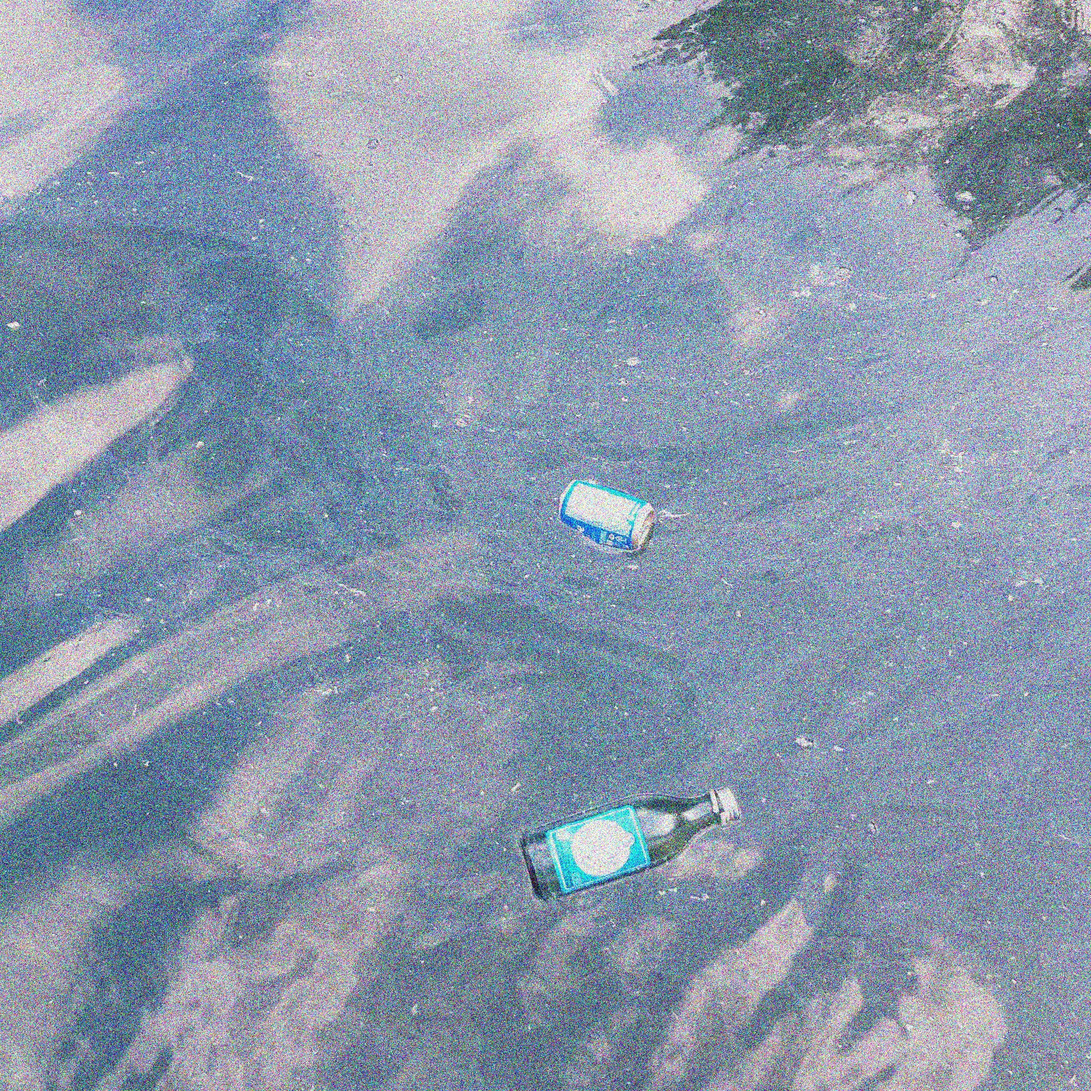sampah_terapung: (518, 786, 743, 901), (558, 479, 655, 551)
